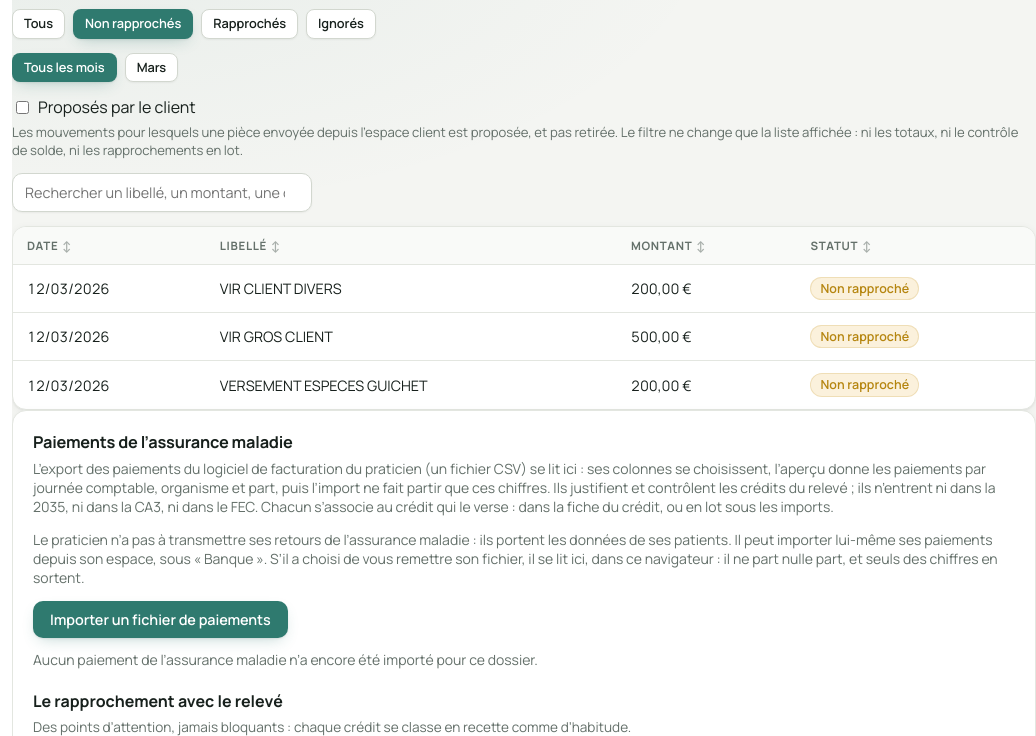
un crédit dont le libellé dit un versement d’espèces › un dossier sans opération de caisse ni caisse reprise n’en dit rien : le versement est peut-être une recette ordinaire
(page scrolled)
Click the row "12/03/2026 VERSEMENT ESPECES GUICHET 200,00 € Non rapproché": click(68, 385) [13,361,1035,409]
(page scrolled)
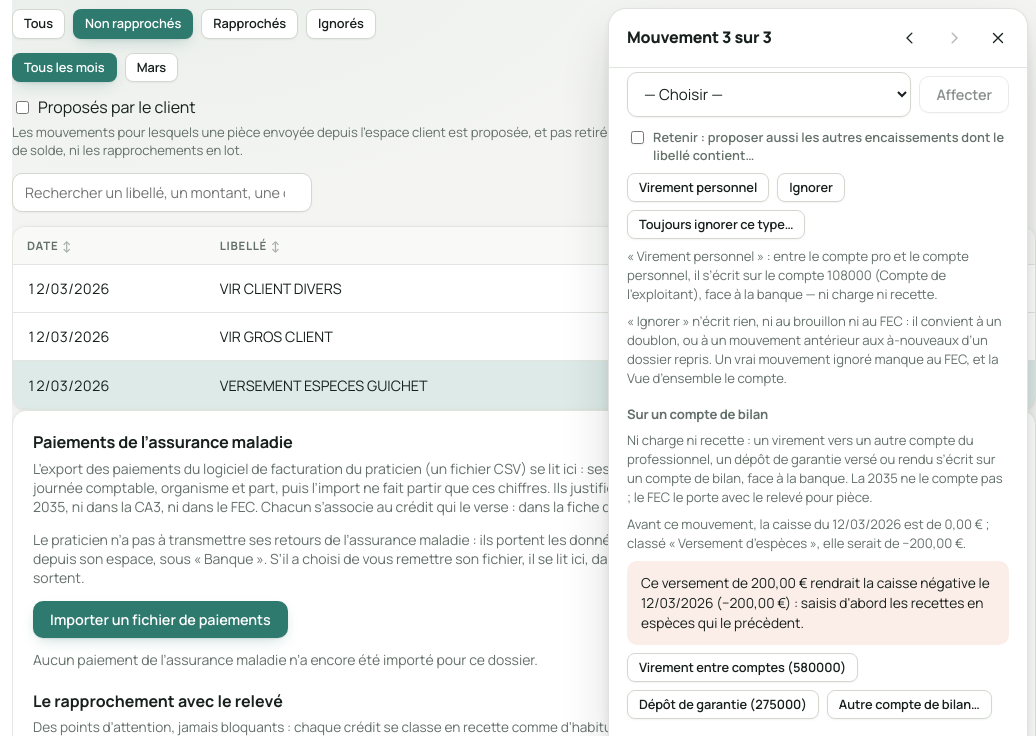
Expected: the heading "Sur un compte de bilan" is shown, [627,404,768,422]
Expected: the text "Avant ce mouvement, la caisse du 12/03/2026 est de 0,00 €" is shown, [627,515,1009,553]
